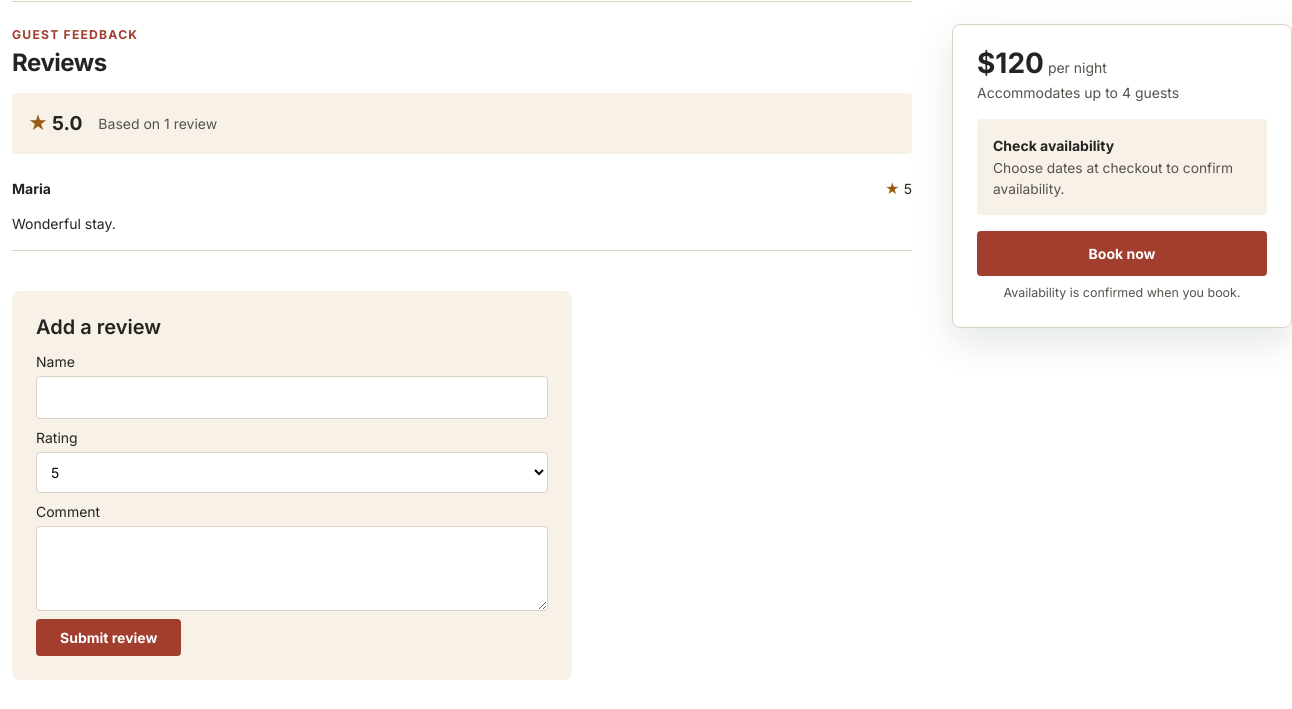
it: StayDetailPage reviews › submits a review, refreshes the list, and resets the form
(page scrolled)
Type "Ada" into the field labelled "Name".
click(292, 398); type("Ada")  # box 36,376 -> 548,419
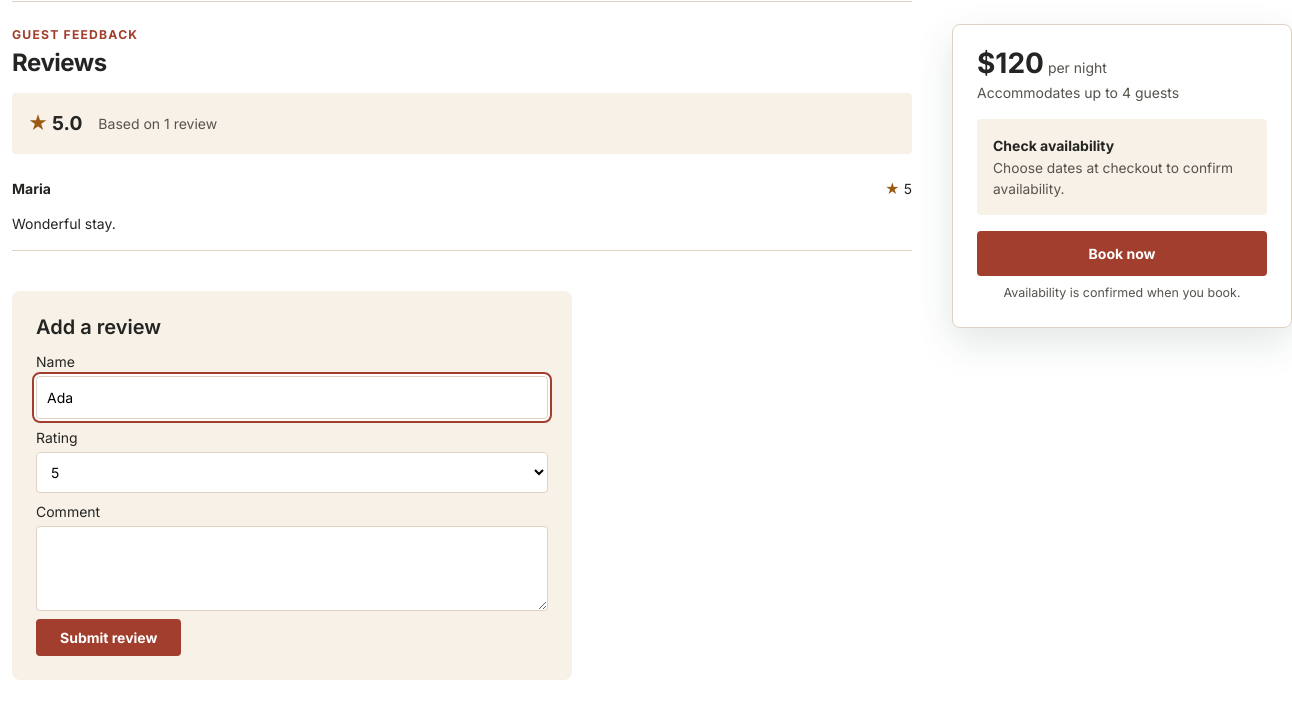
Select "4" in the dropdown labelled "Rating" at (292, 473), box 36,452 -> 548,493
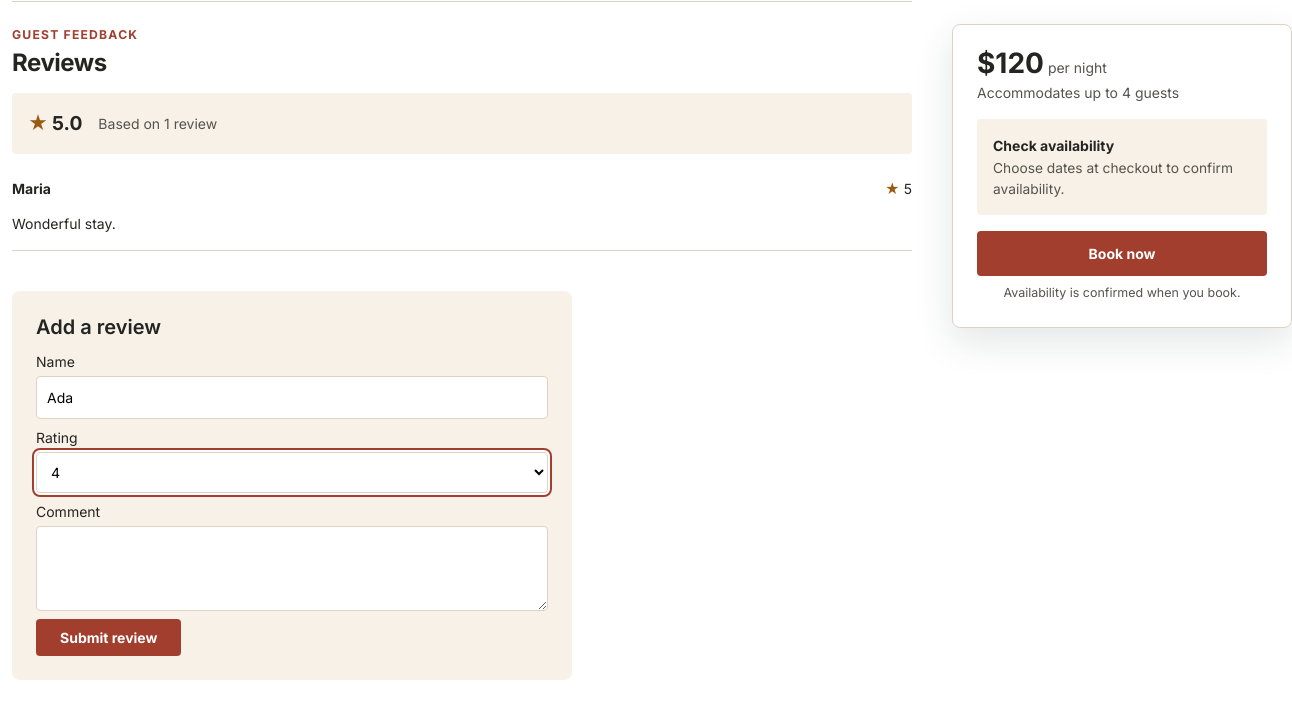
Type "A peaceful weekend by the water." into the text box labelled "Comment".
click(292, 569); type("A peaceful weekend by the water.")  # box 36,526 -> 548,611
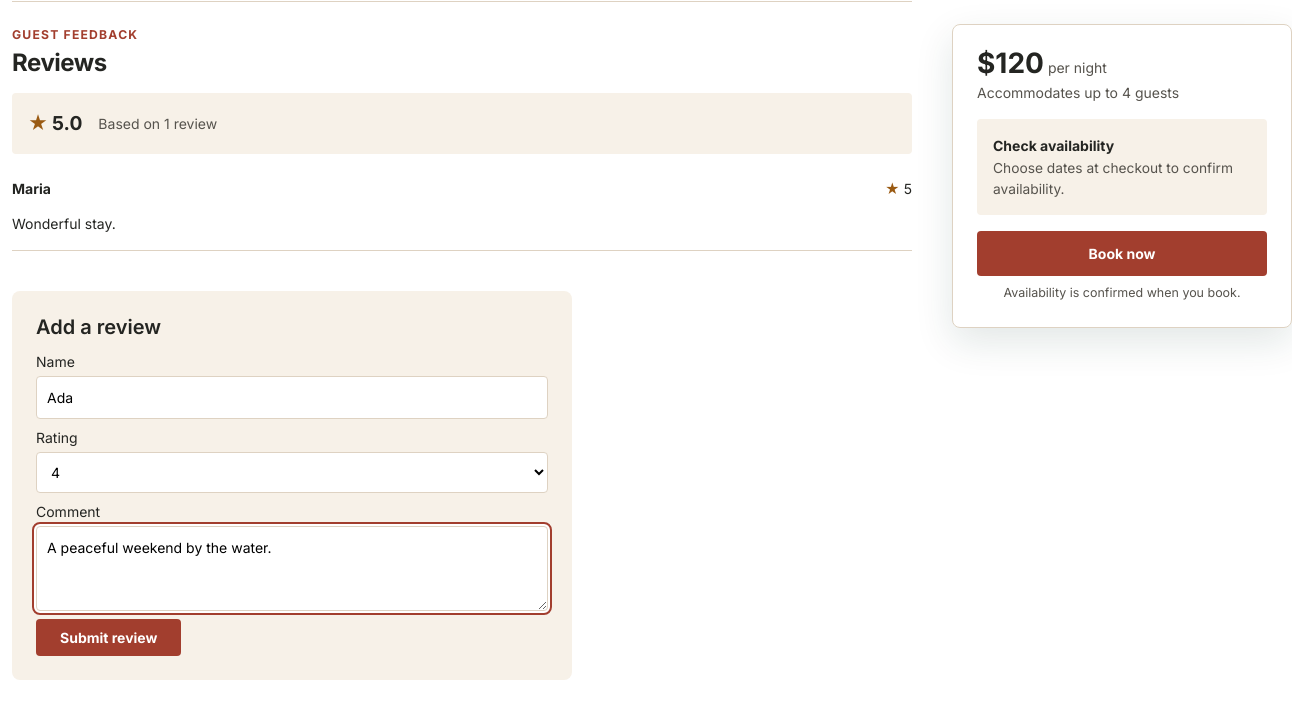
Click the button "Submit review".
click(109, 638)  # box 36,619 -> 181,656
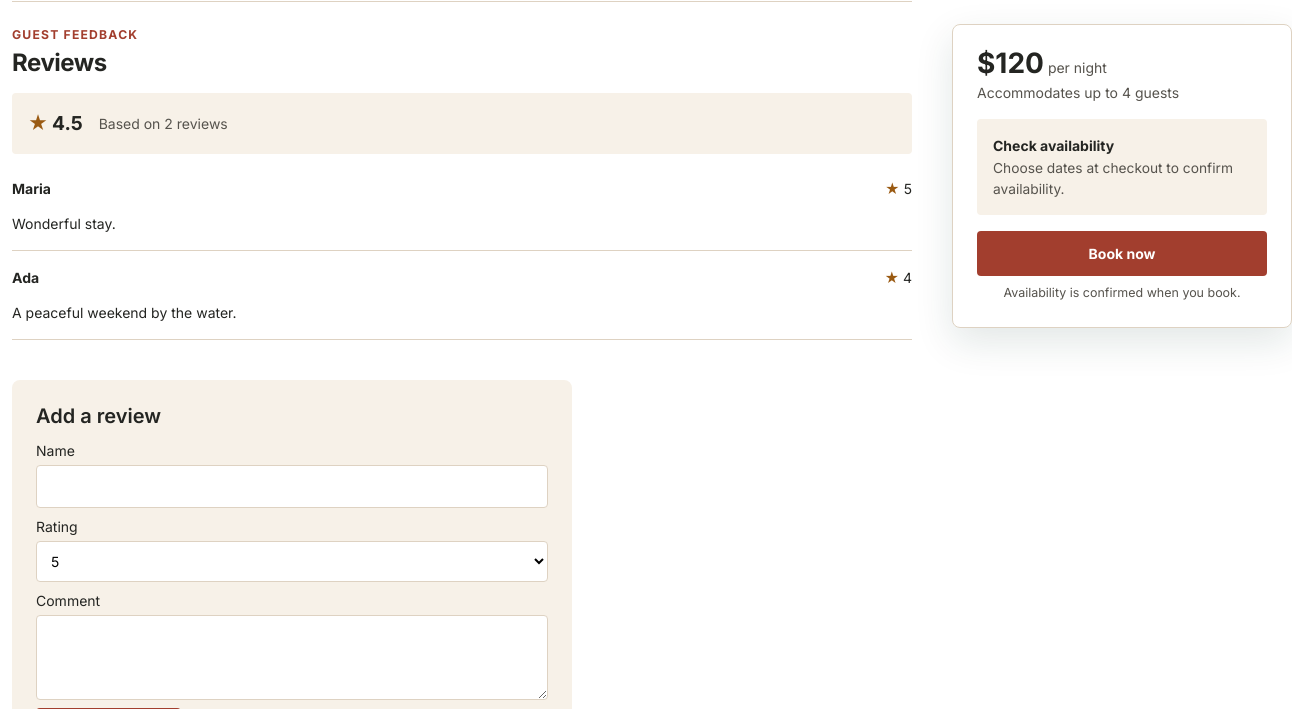
Expected: the text "A peaceful weekend by the water." is shown, 12,304 -> 236,321
Expected: the field labelled "Name" is empty, 36,465 -> 548,508
Expected: the text box labelled "Comment" is empty, 36,615 -> 548,700
